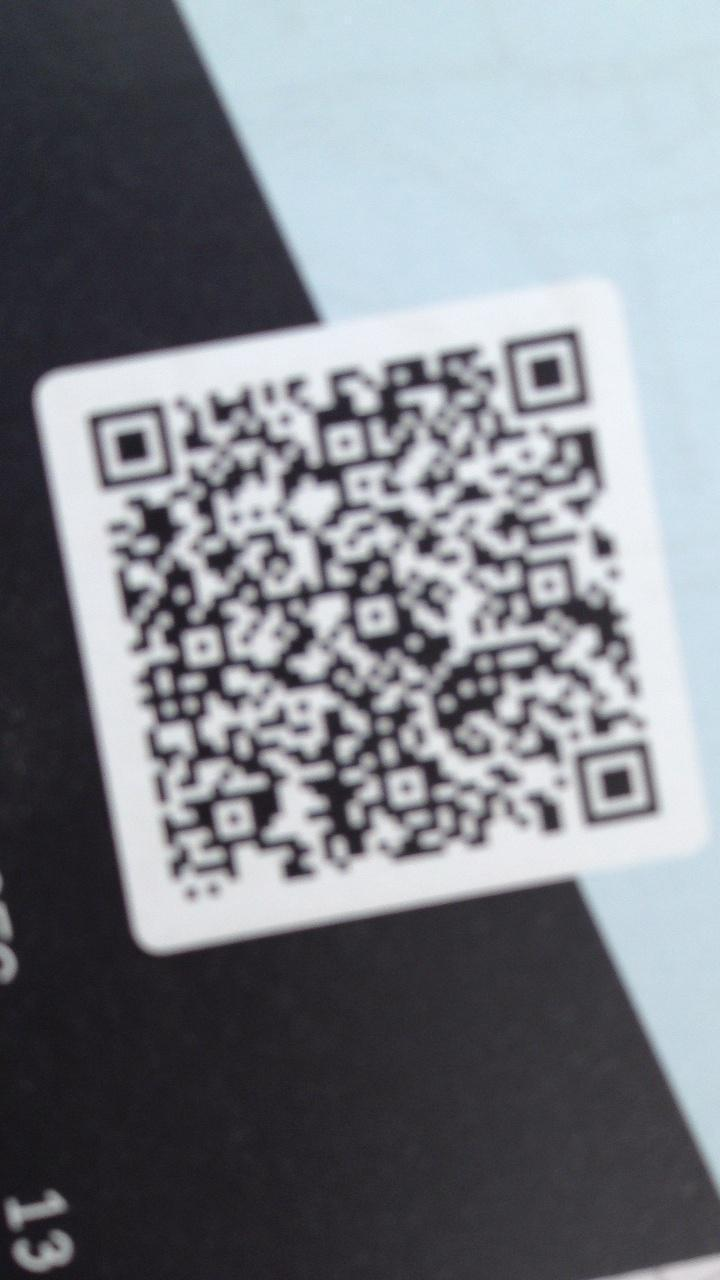qr_code: (91, 329, 661, 901)
